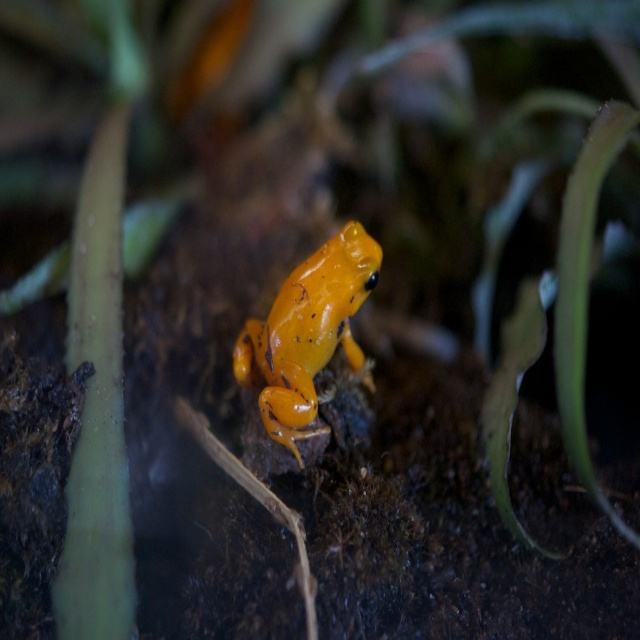Frog: (233, 220, 383, 469)
